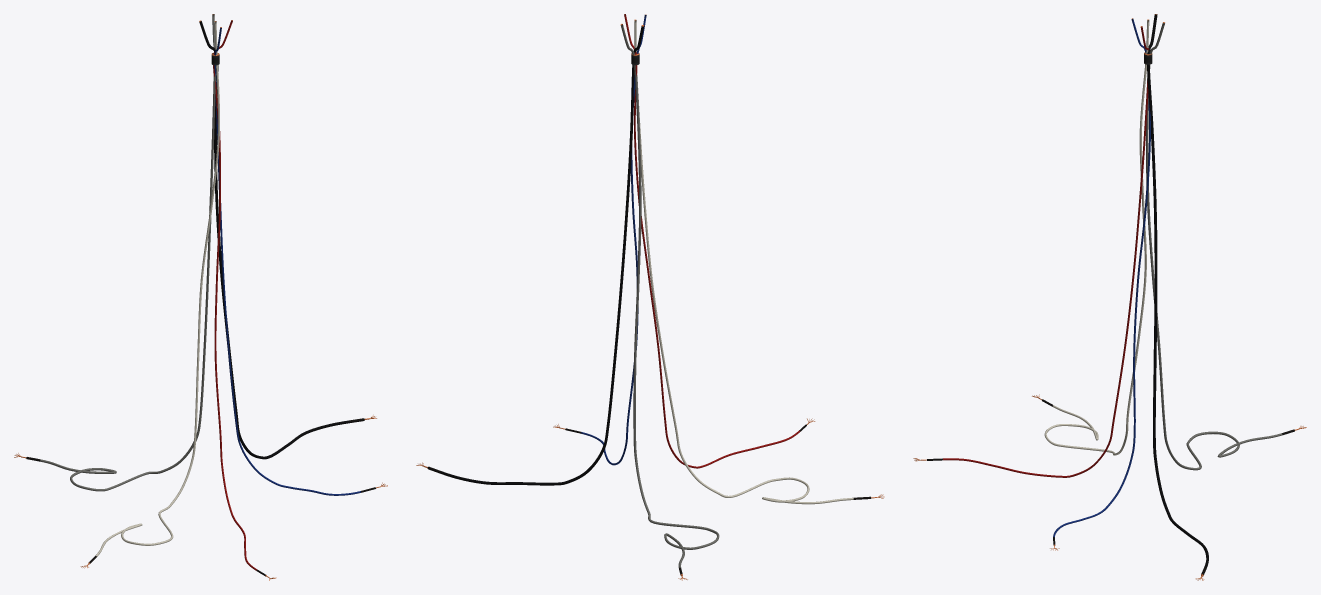
The model's file is SM_SparkingCables.fbx.
The picture shows the model from 3 angles, left to right: view 1: azimuth 30°, elevation 25°; view 2: azimuth 150°, elevation 25°; view 3: azimuth 270°, elevation 25°; orthographic projection. The views are drawn at different scales.
Visible parts, largest first — view 1: SM_SparkingCables; view 2: SM_SparkingCables; view 3: SM_SparkingCables.
Boxes of the visible parts, x1,y1,x2,y2 form: SM_SparkingCables: (14, 14, 387, 580); SM_SparkingCables: (416, 14, 884, 580); SM_SparkingCables: (913, 14, 1306, 580).
Size of the model in its own units: 333 by 392 by 297.
